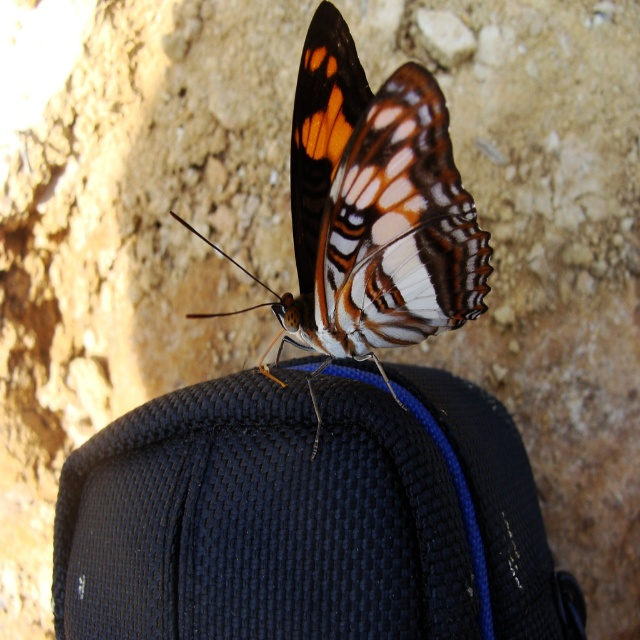Butterfly: (157, 0, 482, 458)
